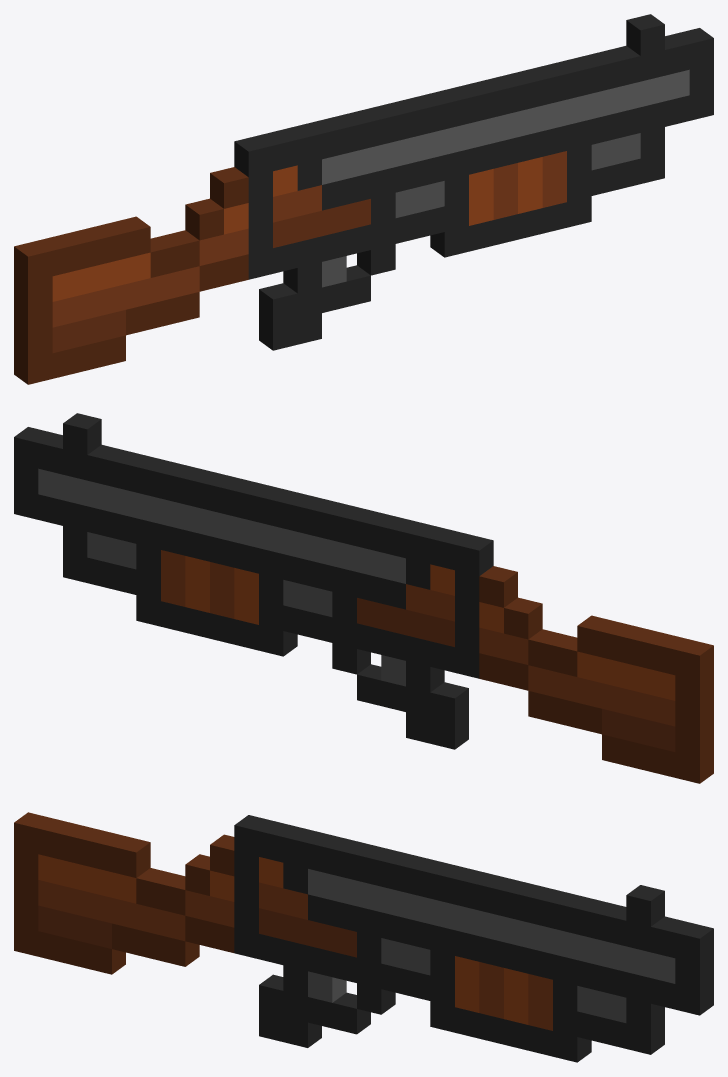
File: Shotgun.obj
The picture shows the model from 3 angles, top to bottom: view 1: azimuth 30°, elevation 25°; view 2: azimuth 150°, elevation 25°; view 3: azimuth 330°, elevation 25°; orthographic projection.
Size of the model in its own units: 2.8 by 0.9 by 0.1.
Materials: 1 (1 with a texture image).
